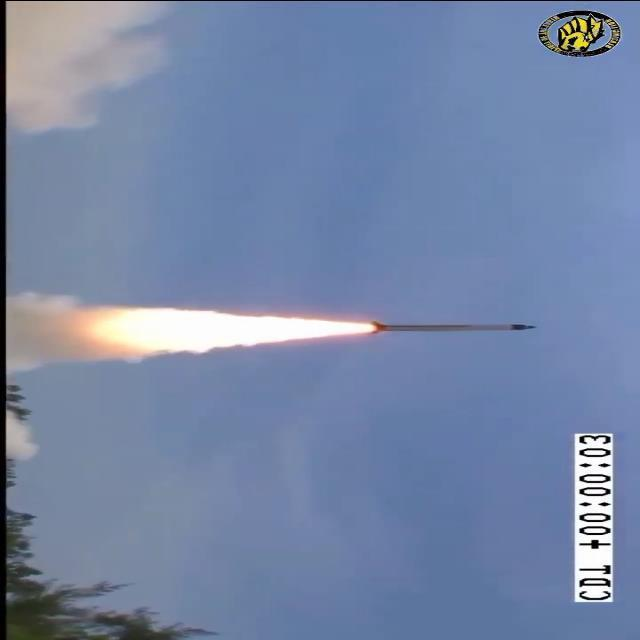missile: (374, 314, 536, 336)
